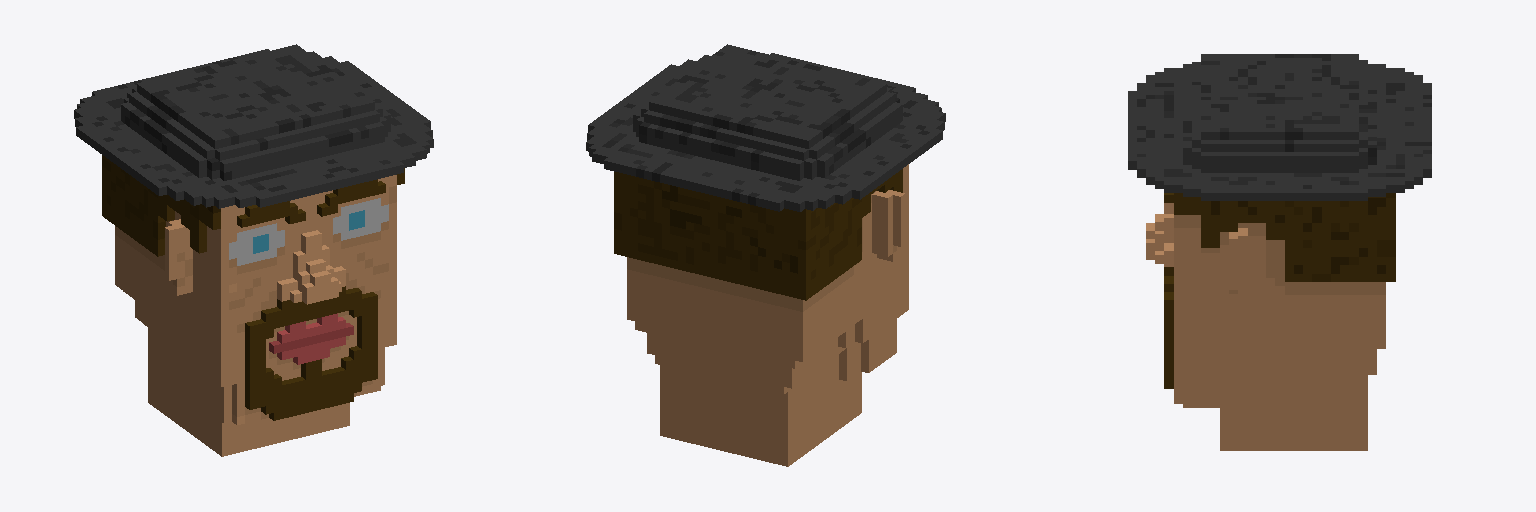
3 views of the same model, side by side, from view 1: azimuth 30°, elevation 25°; view 2: azimuth 150°, elevation 25°; view 3: azimuth 270°, elevation 25° (orthographic).
Parts seen in each view (by area): view 1: object 1; view 2: object 1; view 3: object 1.
Part boxes in pixels (bbox=[...]): object 1: bbox=[74, 44, 433, 456]; object 1: bbox=[586, 44, 945, 466]; object 1: bbox=[1128, 54, 1431, 450].
Bounding box in the file's own units: 3.4 × 3.9 × 3.3.
Materials: 1 (1 with a texture image).